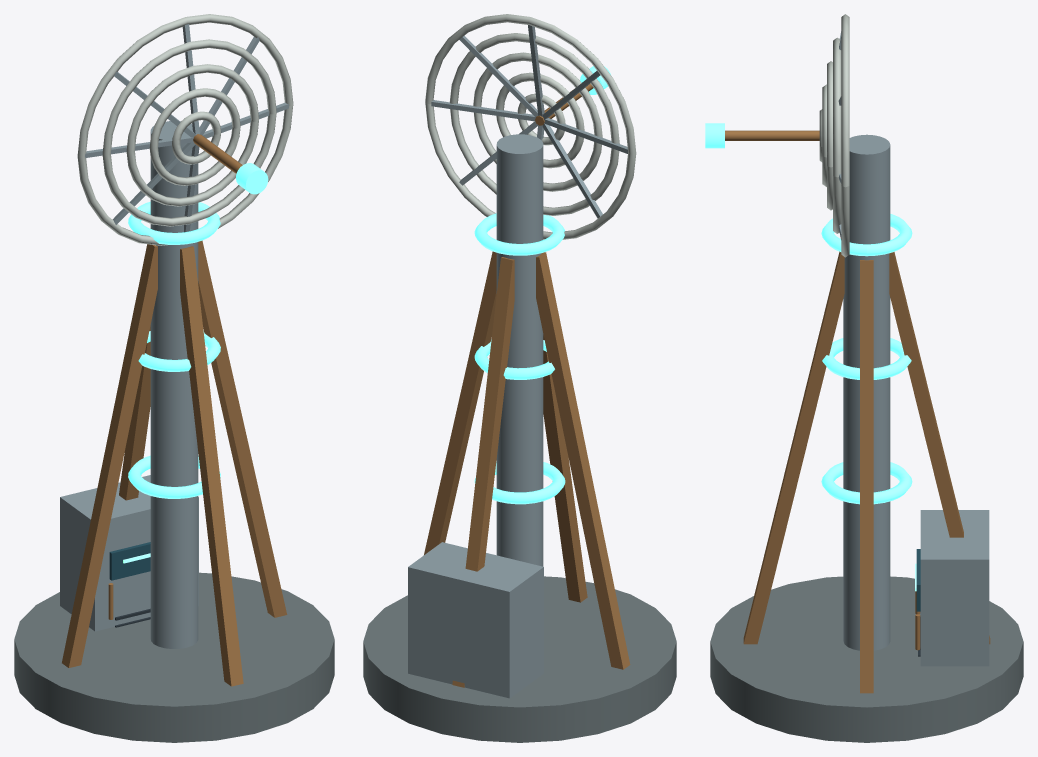
File: relay-mast.lod1.glb
3 renders of one model, left to right at view 1: azimuth 30°, elevation 25°; view 2: azimuth 150°, elevation 25°; view 3: azimuth 270°, elevation 25°, orthographic. The views are drawn at different scales.
Visible parts, largest first — view 1: structure, antenna; view 2: structure, antenna; view 3: structure, antenna.
Boxes of the visible parts, box(x1,y1,x2,y2) form: structure: box(14, 121, 334, 742); antenna: box(77, 14, 293, 245); structure: box(363, 134, 676, 742); antenna: box(425, 14, 636, 239); structure: box(710, 134, 1023, 742); antenna: box(705, 14, 849, 257).
Size of the model in its own units: 3.2 by 7.34 by 3.25.
